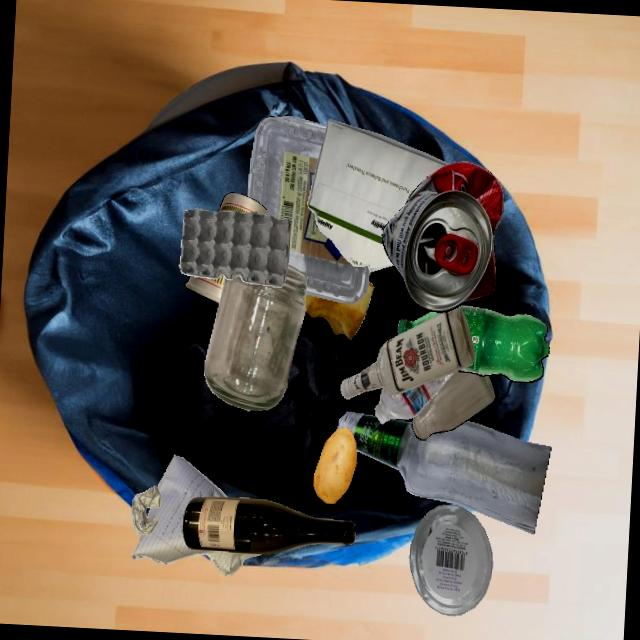biowaste: (306, 282, 374, 339), (314, 427, 357, 504)
cardboard: (179, 208, 290, 288)
glass: (338, 411, 551, 534), (205, 265, 307, 410), (340, 308, 475, 399), (182, 497, 355, 554), (412, 371, 496, 441)
metal: (382, 161, 504, 313)
paper: (307, 119, 449, 272), (132, 455, 262, 575), (131, 486, 161, 535)
plastic: (247, 116, 370, 304), (409, 505, 493, 616), (456, 305, 550, 382), (375, 372, 454, 424)
trash: (185, 276, 226, 305), (218, 193, 268, 215)
